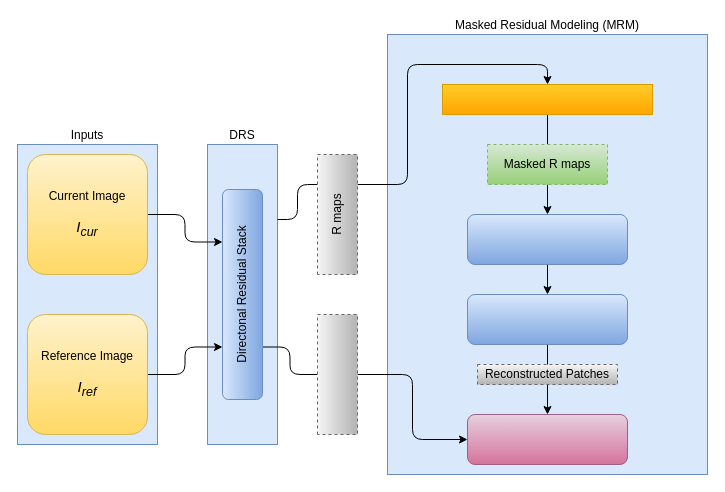
The diagram is 725 pixels wide and 492 high, and some of its shapes have lost their labels. Each missing label, with the centre of its shape:
Mask Random Patches: (x=547, y=99)
Original Patches: (x=337, y=374)
QDT Backbone (No Question): (x=547, y=239)
Reconstruction Head: (x=547, y=319)
Reconstruction Loss: (x=547, y=439)
